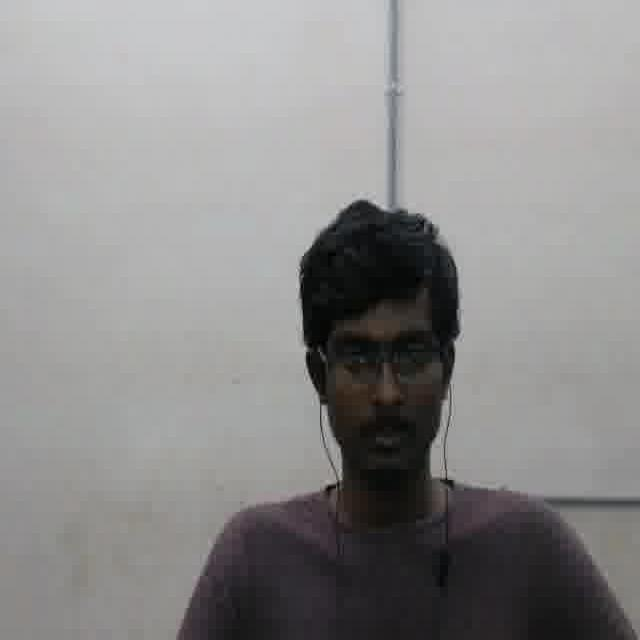Engaged: (325, 288, 441, 480)
